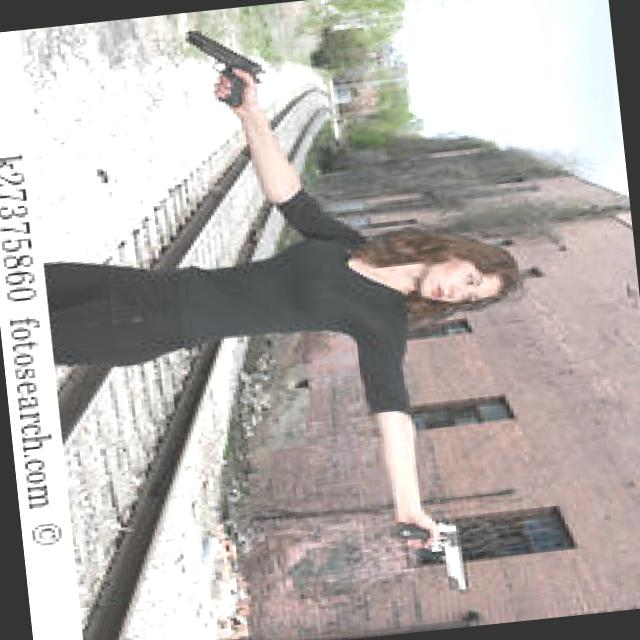handgun: (176, 16, 271, 114), (397, 513, 471, 597)
